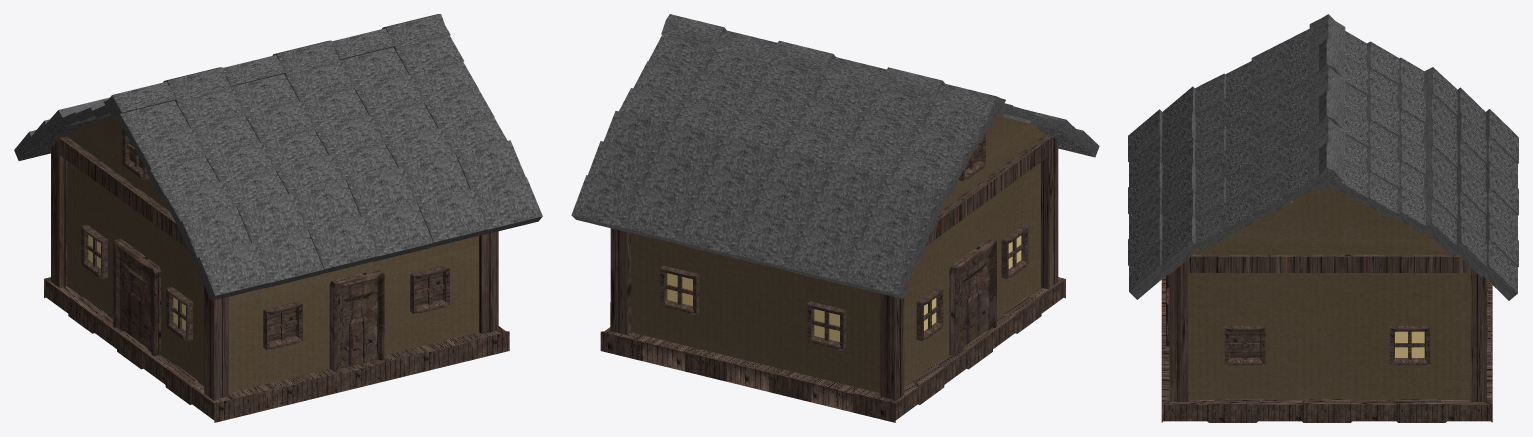
Rendered from house_b.glb.
3 renders of one model, left to right at view 1: azimuth 30°, elevation 25°; view 2: azimuth 150°, elevation 25°; view 3: azimuth 270°, elevation 25°, orthographic. The views are drawn at different scales.
Parts seen in each view (by area): view 1: node_43, node_6, node_4, node_8, node_10, node_19, node_20, node_11, node_13, node_16, node_22, node_25 (+3 smaller); view 2: node_43, node_6, node_4, node_8, node_19, node_20, node_37, node_40, node_22, node_25, node_38, node_41 (+1 smaller); view 3: node_43, node_6, node_8, node_4, node_31, node_34, node_32, node_35.
Boxes of the visible parts, x1,y1,x2,y2 form: node_43: [14, 14, 542, 300]; node_6: [67, 115, 478, 392]; node_4: [44, 277, 509, 422]; node_8: [51, 136, 498, 400]; node_10: [337, 277, 382, 369]; node_19: [116, 250, 153, 351]; node_20: [113, 239, 160, 356]; node_11: [329, 269, 384, 371]; node_13: [410, 265, 449, 314]; node_16: [263, 301, 302, 350]; node_22: [166, 287, 192, 340]; node_25: [81, 224, 107, 278]; node_43: [571, 14, 1099, 298]; node_6: [631, 113, 1044, 392]; node_4: [600, 277, 1065, 422]; node_8: [610, 135, 1058, 401]; node_19: [959, 250, 993, 351]; node_20: [949, 239, 996, 356]; node_37: [660, 265, 699, 314]; node_40: [807, 301, 846, 350]; node_22: [1001, 225, 1028, 279]; node_25: [916, 287, 943, 341]; node_38: [667, 273, 692, 305]; node_41: [814, 309, 839, 341]; node_43: [1128, 14, 1518, 300]; node_6: [1188, 187, 1470, 399]; node_8: [1169, 254, 1486, 401]; node_4: [1161, 276, 1492, 422]; node_31: [1224, 326, 1265, 365]; node_34: [1389, 326, 1430, 365]; node_32: [1230, 331, 1259, 357]; node_35: [1395, 331, 1424, 357].
Size of the model in its own units: 12 by 9.47 by 12.75.
5 materials, 4 textured.
